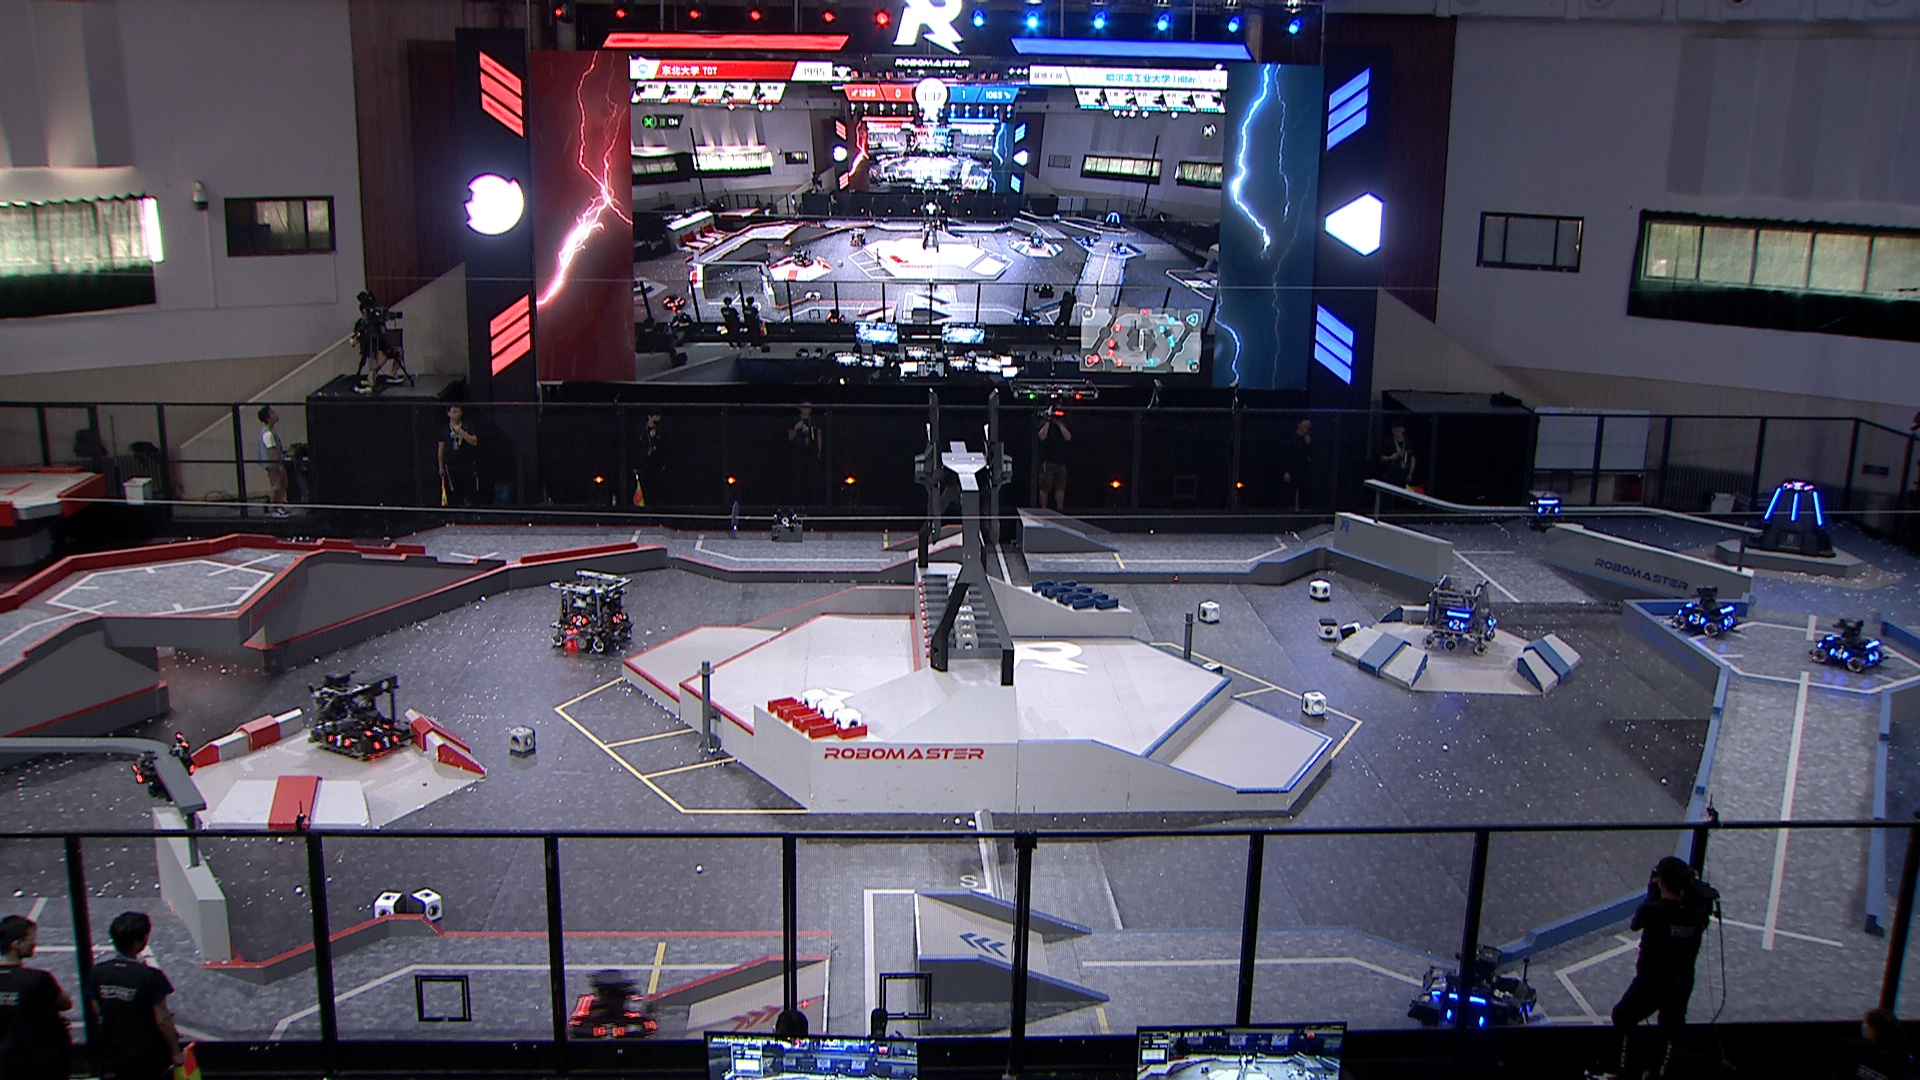armor: (588, 1021, 626, 1043), (359, 717, 396, 738), (624, 988, 646, 1022), (1764, 488, 1784, 520), (1808, 491, 1825, 526), (371, 733, 404, 752), (1787, 491, 1803, 526), (1515, 1000, 1534, 1030), (324, 731, 351, 752), (1427, 973, 1448, 1000), (128, 761, 146, 789), (1826, 645, 1851, 662), (1685, 611, 1706, 629), (1536, 502, 1563, 516), (1866, 647, 1884, 665), (1447, 617, 1466, 633), (568, 612, 588, 626), (1722, 613, 1737, 632), (612, 611, 626, 626)
base: (1743, 479, 1840, 559)
car: (1414, 938, 1538, 1036), (305, 659, 415, 761), (545, 568, 633, 655), (566, 968, 659, 1050), (1416, 568, 1503, 655), (1803, 615, 1890, 676), (1665, 579, 1742, 638)
ignore: (1102, 208, 1127, 232), (662, 290, 688, 313), (790, 245, 814, 268), (1026, 228, 1046, 251), (847, 228, 868, 248), (1784, 480, 1812, 493)
watcher: (125, 727, 200, 803), (1531, 489, 1563, 534)
